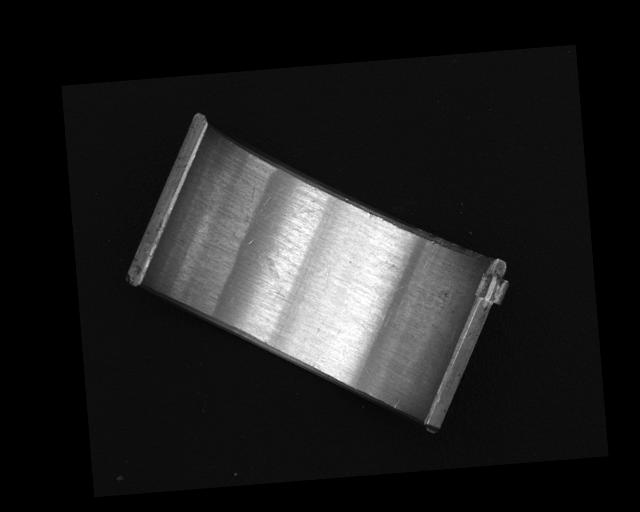nick: (393, 396, 403, 409)
